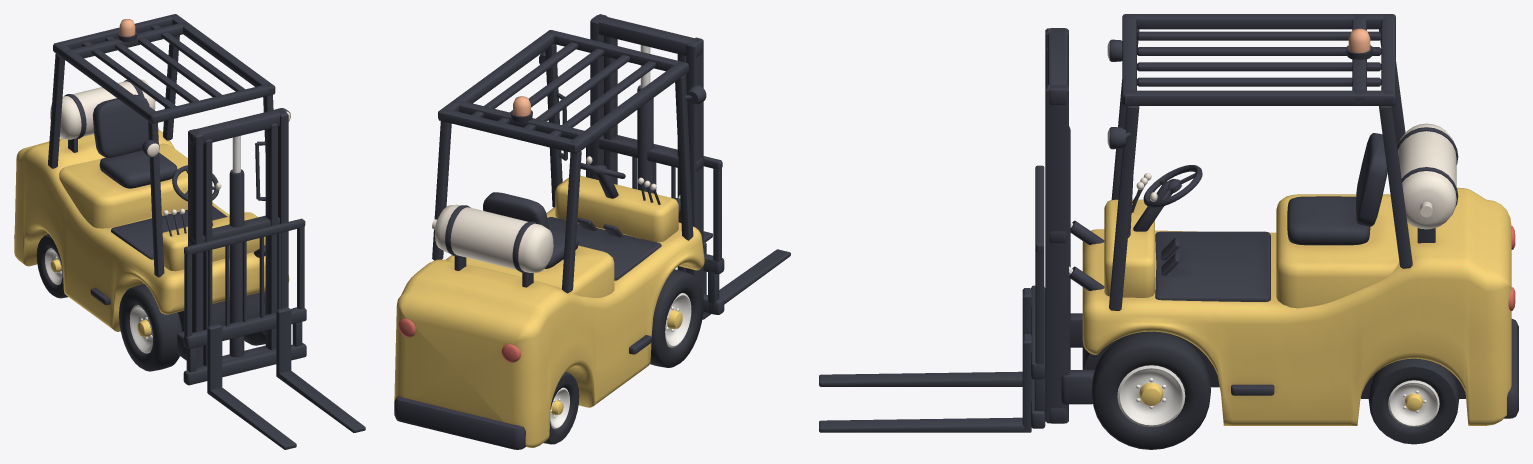
File: forklift.glb
3 views of the same model, side by side, from view 1: azimuth 30°, elevation 25°; view 2: azimuth 150°, elevation 25°; view 3: azimuth 270°, elevation 25° (orthographic). The views are drawn at different scales.
Visible parts, largest first — view 1: forklift_body, forklift_fork_carriage, forklift_wheel_fr, forklift_wheel_rr; view 2: forklift_body, forklift_fork_carriage, forklift_wheel_fr, forklift_wheel_rr, forklift_headlights; view 3: forklift_body, forklift_wheel_fl, forklift_fork_carriage, forklift_wheel_rl, forklift_headlights.
Boxes of the visible parts, x1,y1,x2,y2 form: forklift_body: (14,14,289,367); forklift_fork_carriage: (183,218,365,449); forklift_wheel_fr: (119,284,182,371); forklift_wheel_rr: (36,234,67,298); forklift_body: (394,14,704,449); forklift_fork_carriage: (586,135,790,319); forklift_wheel_fr: (650,269,703,367); forklift_wheel_rr: (544,372,579,444); forklift_headlights: (539,51,706,104); forklift_body: (1045,14,1518,425); forklift_wheel_fl: (1091,331,1210,449); forklift_fork_carriage: (819,165,1045,432); forklift_wheel_rl: (1368,358,1459,444); forklift_headlights: (1107,39,1131,149).
Bounding box in the file's own units: 1.26 × 2.32 × 3.87.
16 materials, 1 textured.
